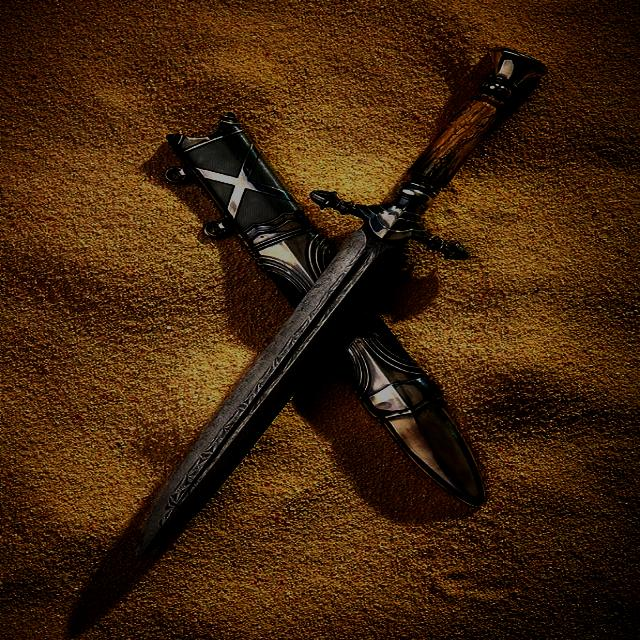short sword: (92, 46, 552, 576)
